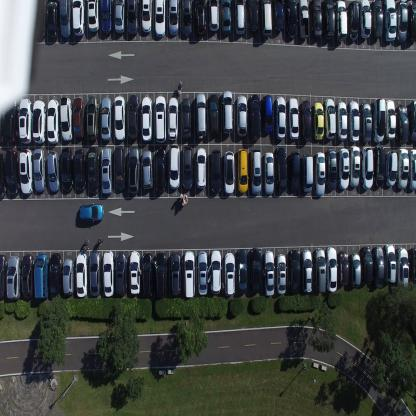car: (18, 148, 33, 195), (5, 147, 20, 194), (6, 254, 21, 300), (126, 146, 140, 195), (372, 96, 386, 144), (34, 252, 48, 300), (86, 145, 99, 195), (395, 245, 410, 288), (154, 95, 167, 144), (46, 99, 60, 144), (32, 99, 46, 144), (4, 100, 18, 145), (334, 0, 348, 45), (154, 251, 167, 299), (31, 0, 46, 41), (168, 143, 181, 189), (19, 99, 32, 145), (21, 253, 34, 299), (183, 250, 195, 299), (102, 249, 114, 298), (383, 0, 397, 42), (86, 96, 99, 141), (61, 147, 74, 192), (33, 148, 46, 193), (48, 252, 61, 297), (249, 92, 261, 140), (236, 146, 248, 194), (127, 92, 139, 140), (114, 144, 126, 192), (100, 146, 112, 194), (89, 250, 101, 298), (347, 99, 360, 143), (181, 144, 193, 191), (195, 92, 207, 139), (221, 88, 233, 135), (210, 147, 222, 194), (275, 145, 287, 192), (314, 247, 326, 294), (289, 248, 301, 295), (263, 250, 275, 297), (249, 247, 261, 294), (169, 251, 181, 298), (47, 150, 60, 193), (371, 245, 384, 288), (154, 147, 166, 193), (223, 149, 235, 195), (60, 96, 72, 142), (325, 246, 337, 292), (236, 248, 248, 294), (141, 252, 153, 298), (383, 242, 396, 284), (58, 0, 72, 39), (297, 0, 310, 42), (208, 93, 220, 138), (274, 95, 286, 140), (314, 151, 326, 196), (100, 96, 112, 141), (72, 95, 84, 140), (210, 249, 222, 294), (285, 0, 298, 41), (193, 0, 207, 38), (195, 146, 207, 190), (263, 152, 275, 196), (250, 147, 261, 195), (361, 146, 373, 190), (114, 94, 125, 142), (74, 148, 86, 192), (301, 249, 313, 293), (115, 252, 127, 296), (397, 0, 409, 44), (396, 104, 409, 144), (371, 0, 384, 40), (197, 249, 208, 296), (180, 97, 192, 140), (236, 94, 248, 137), (141, 149, 153, 192), (78, 203, 105, 222), (141, 96, 152, 142), (76, 252, 87, 298), (324, 98, 336, 140), (325, 147, 337, 189), (288, 96, 299, 141), (262, 94, 274, 135), (360, 102, 372, 143), (322, 0, 334, 41), (301, 99, 312, 143), (374, 144, 385, 188), (338, 146, 349, 190), (224, 252, 235, 296), (86, 0, 100, 34), (349, 145, 360, 188), (311, 0, 322, 43), (348, 0, 359, 43), (312, 102, 324, 141), (72, 0, 85, 36), (359, 0, 371, 39), (385, 98, 396, 140), (397, 148, 408, 190), (289, 150, 300, 192), (62, 258, 74, 296), (154, 0, 166, 38), (260, 0, 272, 38), (126, 0, 139, 35), (168, 96, 178, 141), (130, 250, 140, 295), (385, 150, 397, 187), (167, 0, 179, 37), (220, 0, 232, 37), (302, 154, 313, 194), (361, 245, 372, 285), (349, 251, 361, 287), (47, 0, 58, 39), (276, 253, 286, 295), (247, 0, 259, 35), (338, 249, 349, 287), (181, 0, 192, 38), (234, 0, 245, 38), (140, 0, 152, 34), (337, 101, 347, 141), (101, 0, 112, 35), (114, 0, 125, 34), (208, 0, 219, 33), (273, 0, 284, 32), (408, 247, 416, 290), (0, 151, 7, 200), (408, 100, 416, 142), (408, 148, 416, 190), (408, 1, 416, 43), (0, 253, 7, 299), (0, 102, 4, 146)
